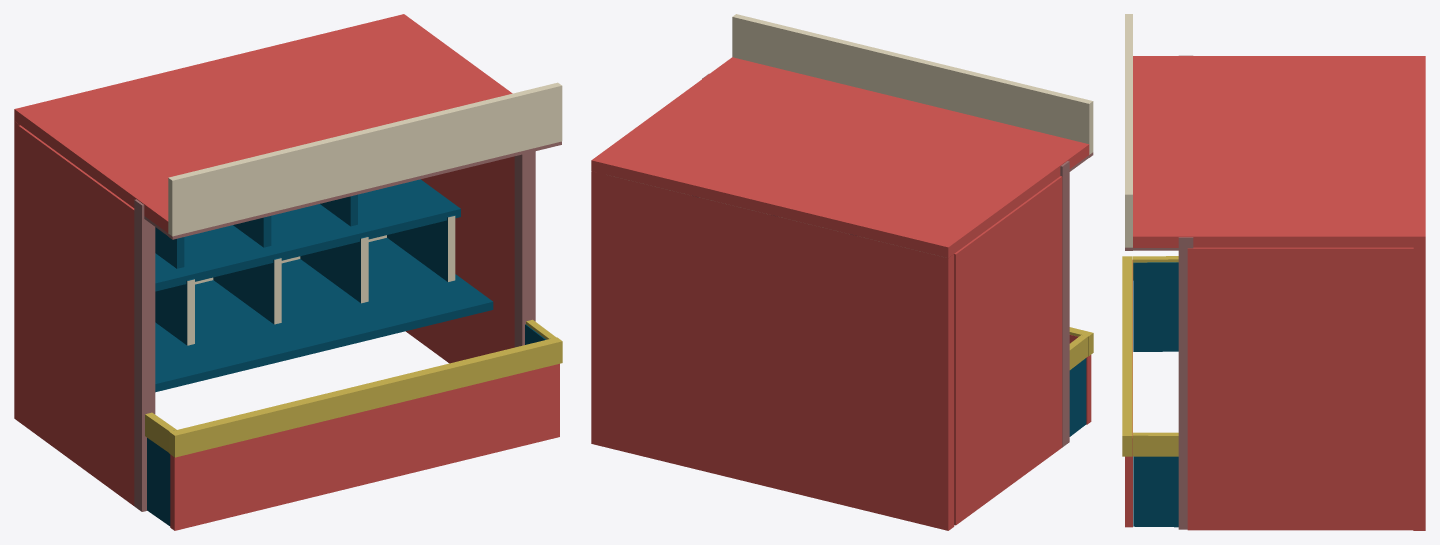
The model's file is TargetShooting.fbx.
3 renders of one model, left to right at view 1: azimuth 30°, elevation 25°; view 2: azimuth 150°, elevation 25°; view 3: azimuth 270°, elevation 25°, orthographic. The views are drawn at different scales.
Parts seen in each view (by area): view 1: Roof1, Sidewall2, Frontwalldown4, Frontwalldown, Frontwalldown5, pCube10, Pole, pCube9, pCube14; view 2: Roof1, Sidewall2, Pole, Frontwalldown, Frontwalldown5; view 3: Sidewall2, Roof1, Frontwalldown, Frontwalldown5, Pole.
Part boxes in pixels (x1,y1,x2,y2): Roof1: (14,14,562,421); Sidewall2: (18,125,514,505); Frontwalldown4: (155,179,493,392); Frontwalldown: (147,324,559,530); Frontwalldown5: (145,319,562,457); pCube10: (155,215,455,345); Pole: (134,151,535,511); pCube9: (155,194,357,268); pCube14: (144,141,561,239); Roof1: (591,14,1093,530); Sidewall2: (599,173,1062,525); Pole: (702,73,1069,447); Frontwalldown: (1069,335,1091,436); Frontwalldown5: (1069,327,1093,369); Sidewall2: (1187,247,1413,530); Roof1: (1125,14,1425,530); Frontwalldown: (1125,260,1178,527); Frontwalldown5: (1122,256,1178,456); Pole: (1178,55,1193,529).
Bounding box in the file's own units: 0.6312 × 0.5408 × 0.4422.
